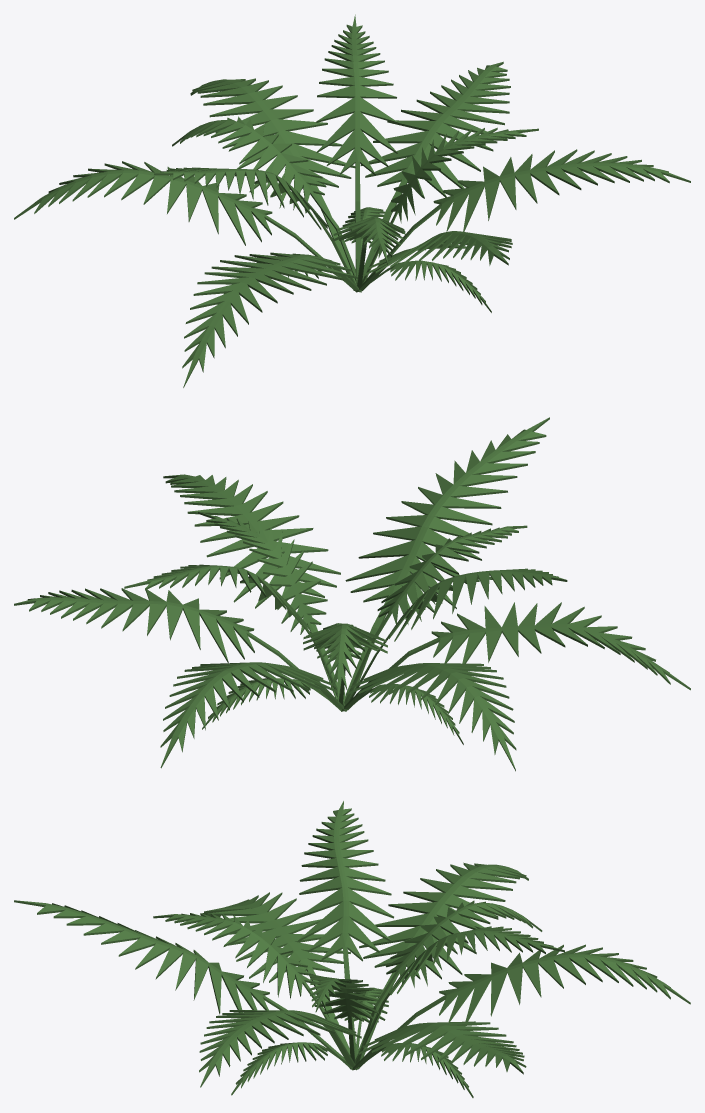
Rendered from Paporotnic1.fbx.
The picture shows the model from 3 angles, top to bottom: view 1: azimuth 30°, elevation 25°; view 2: azimuth 150°, elevation 25°; view 3: azimuth 270°, elevation 25°; orthographic projection. The views are drawn at different scales.
Visible parts, largest first — view 1: Paporotnic; view 2: Paporotnic; view 3: Paporotnic.
Part boxes in pixels (x1,y1,x2,y2): Paporotnic: [14, 14, 690, 387]; Paporotnic: [14, 417, 690, 771]; Paporotnic: [14, 801, 690, 1097].
Size of the model in its own units: 156 by 50.77 by 184.
